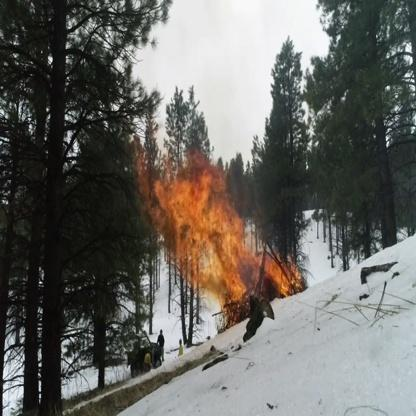Fire: (130, 132, 307, 327)
